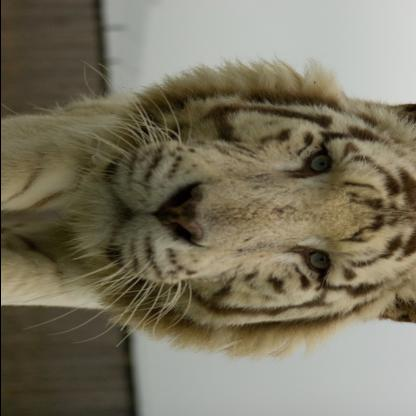tiger: (56, 62, 415, 346)
